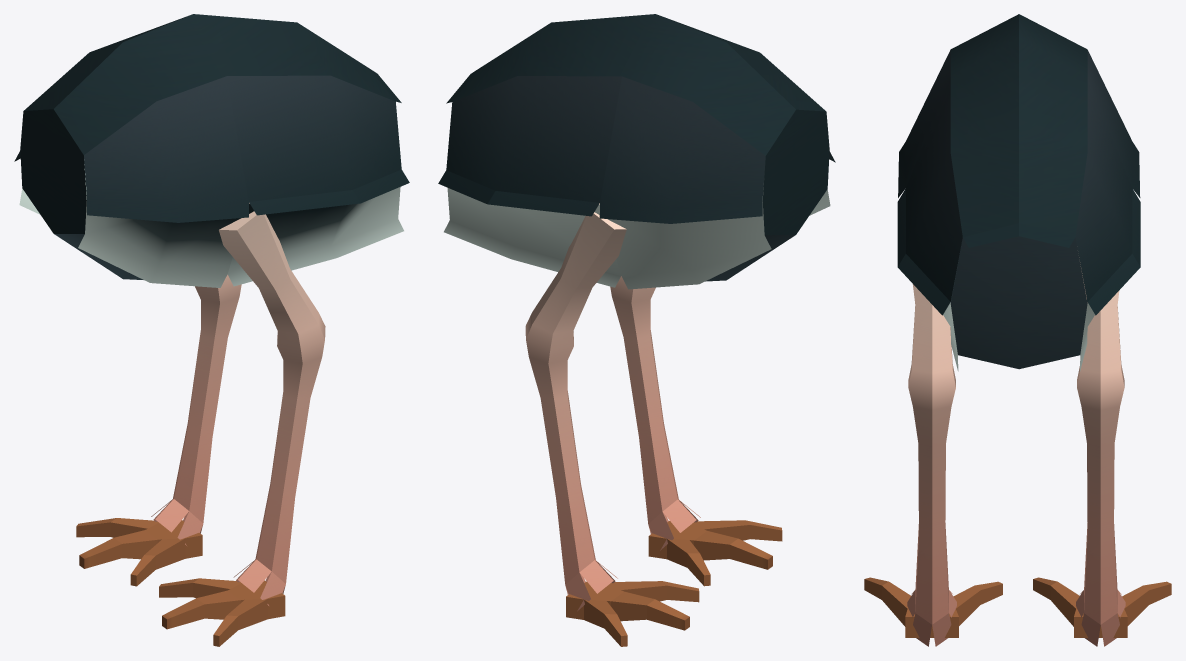
Rendered from Autruche_body.fbx.
The picture shows the model from 3 angles, left to right: view 1: azimuth 30°, elevation 25°; view 2: azimuth 150°, elevation 25°; view 3: azimuth 270°, elevation 25°; orthographic projection. The views are drawn at different scales.
Parts seen in each view (by area): view 1: Autruche_body; view 2: Autruche_body; view 3: Autruche_body.
Boxes of the visible parts, x1,y1,x2,y2 form: Autruche_body: [14, 14, 409, 646]; Autruche_body: [438, 14, 835, 646]; Autruche_body: [864, 14, 1171, 646].
Bounding box in the file's own units: 64.71 × 108 × 50.89.
